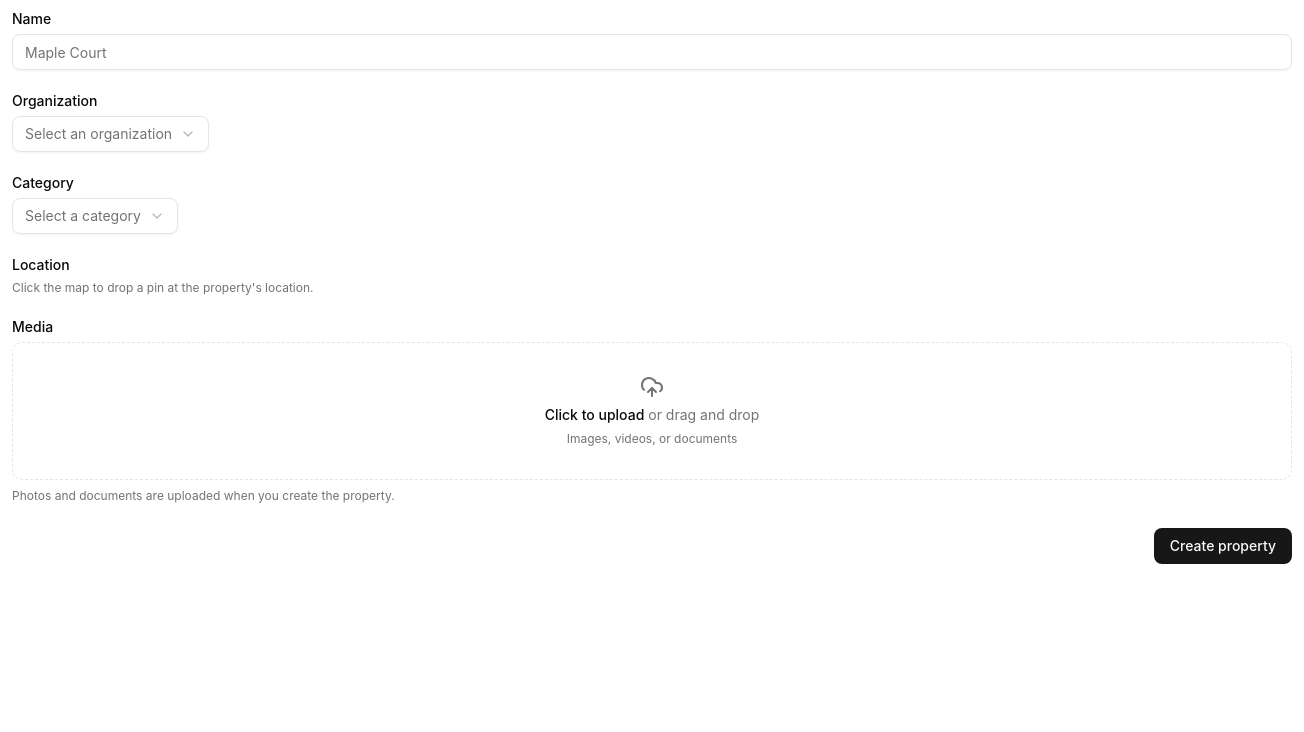
Test case: PropertyForm › blocks submit and shows validation errors when empty
Click the button "Create property": (1223,546) left=1154, top=528, right=1292, bottom=564
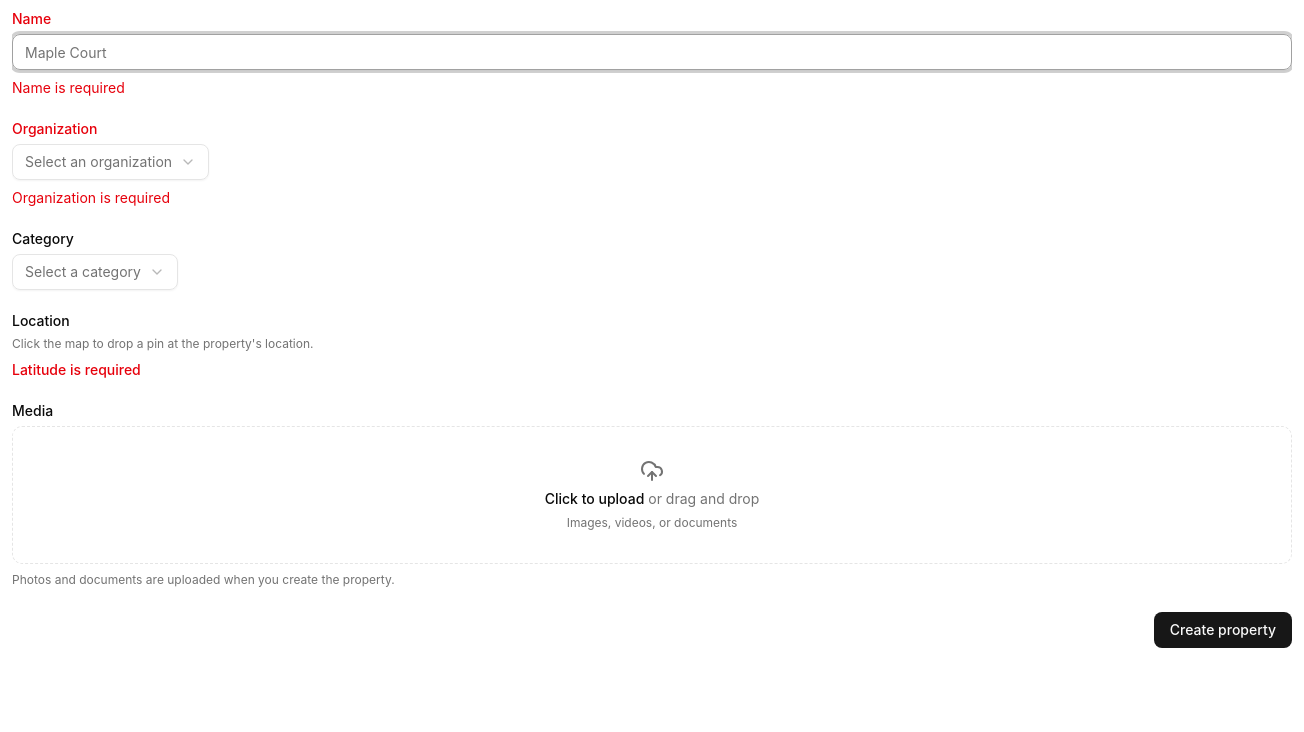
Expected: the text "Name is required" is shown, left=12, top=79, right=125, bottom=96
Expected: the text "Organization is required" is shown, left=12, top=189, right=170, bottom=206
Expected: the text "Latitude is required" is shown, left=12, top=361, right=141, bottom=378
